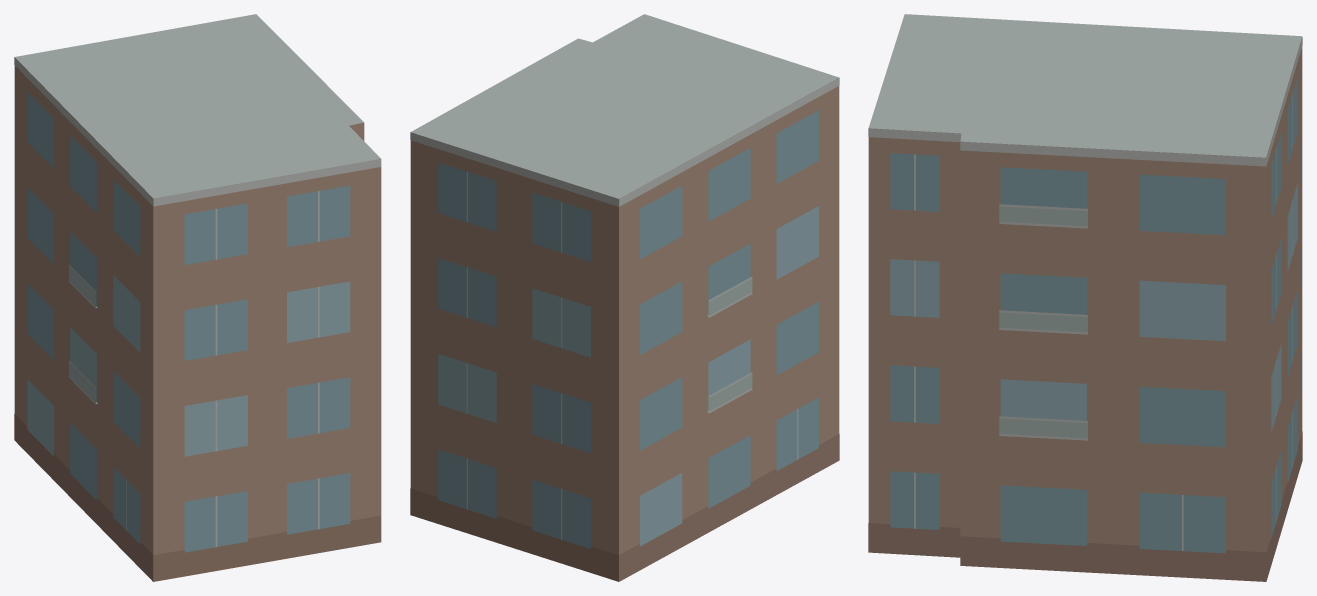
File: survey-upis-32632248.glb
3 renders of one model, left to right at view 1: azimuth 30°, elevation 25°; view 2: azimuth 150°, elevation 25°; view 3: azimuth 270°, elevation 25°, orthographic. The views are drawn at different scales.
Parts seen in each view (by area): view 1: survey-upis-32632248.tmp; view 2: survey-upis-32632248.tmp; view 3: survey-upis-32632248.tmp.
Boxes of the visible parts, left/top/right/bottom form: survey-upis-32632248.tmp: left=14, top=14, right=381, bottom=581; survey-upis-32632248.tmp: left=410, top=14, right=839, bottom=581; survey-upis-32632248.tmp: left=868, top=14, right=1302, bottom=581.
Bounding box in the file's own units: 8.55 × 11.75 × 10.91.
